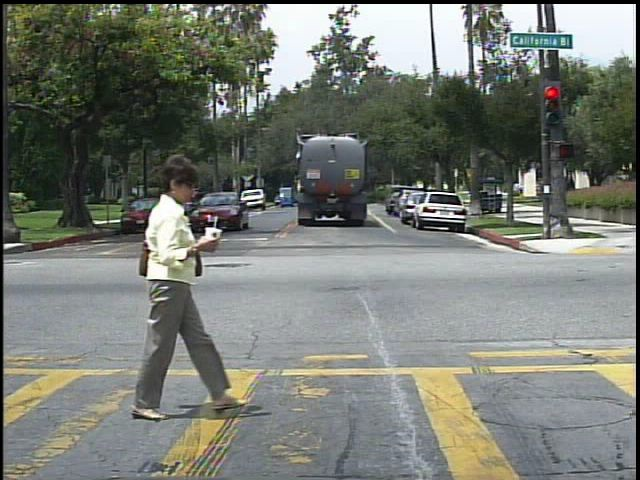person: (116, 150, 236, 423), (564, 172, 582, 205), (516, 181, 529, 200)
